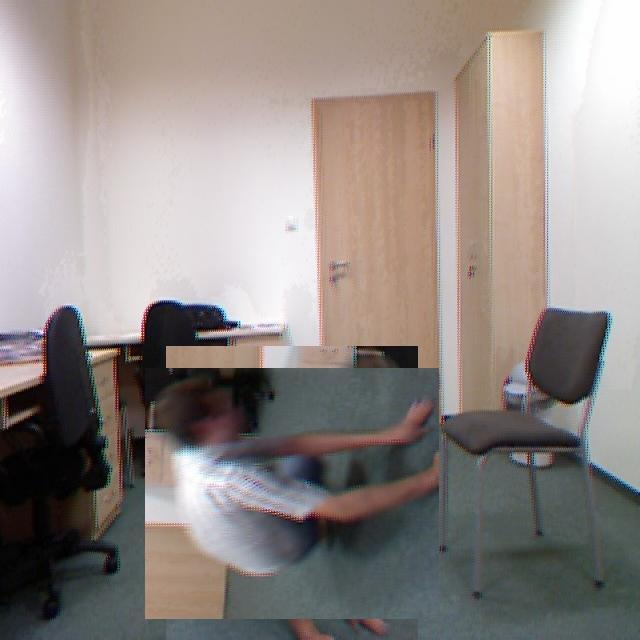Fall: (146, 376, 430, 586)
